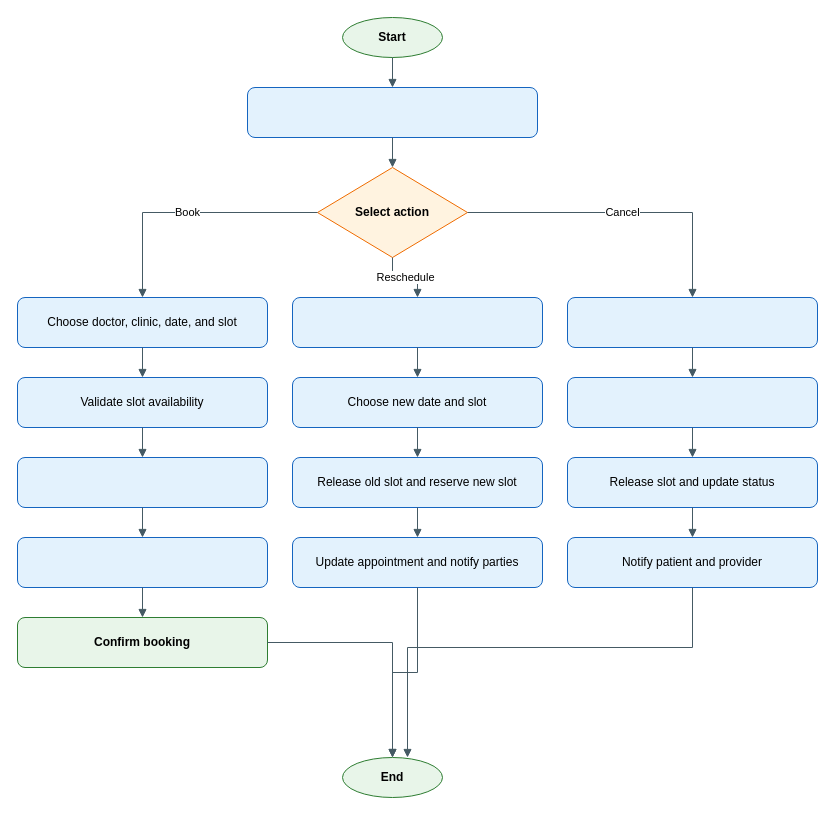
Some shapes in this 835 by 815 pixel diagram are drawn without their labels. Each missing label, with the box of its shape:
Create appointment and reserve slot: (16, 456, 268, 508)
Enter cancellation reason and confirm: (566, 376, 818, 428)
Open appointment details: (566, 296, 818, 348)
Open appointment workflow: (246, 86, 538, 138)
Open upcoming appointment: (292, 296, 542, 348)
Process payment if required: (16, 536, 268, 588)
